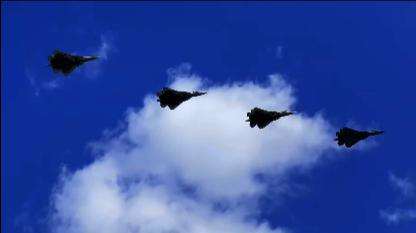SR71: (44, 49, 100, 75), (154, 87, 206, 109), (244, 108, 296, 128), (332, 127, 384, 147)
